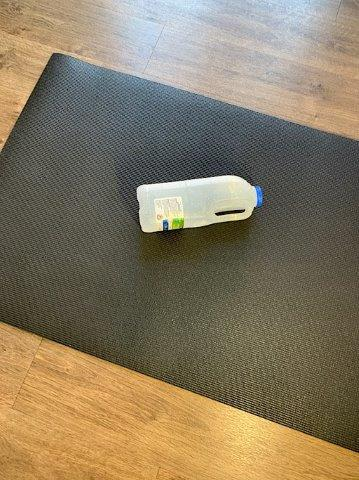botolplastik: (137, 175, 262, 233)
